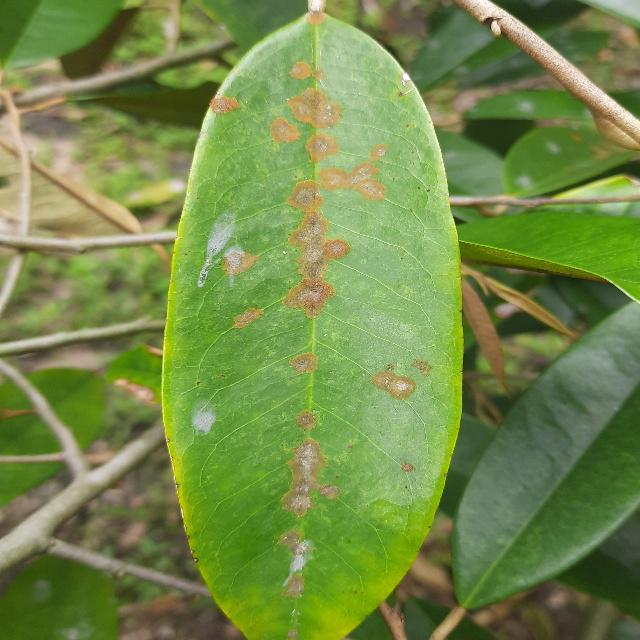Algal Leaf Spot: (155, 17, 478, 639)
